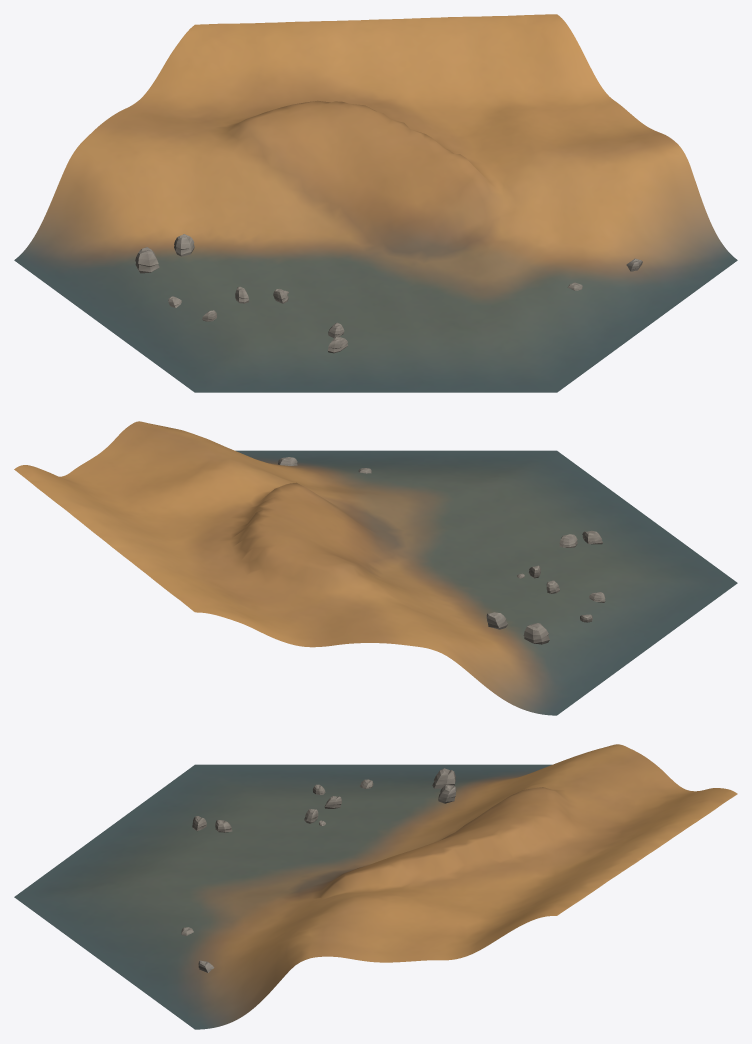
Rendered from costa_-05_+06.glb.
3 renders of one model, top to bottom at view 1: azimuth 30°, elevation 25°; view 2: azimuth 150°, elevation 25°; view 3: azimuth 270°, elevation 25°, orthographic.
Parts seen in each view (by area): view 1: terrain, Formações costeiras; view 2: terrain, Formações costeiras; view 3: terrain, Formações costeiras.
Boxes of the visible parts, x1,y1,x2,y2 form: terrain: (14,14,737,392); Formações costeiras: (135,234,642,353); terrain: (14,421,737,715); Formações costeiras: (278,457,605,644); terrain: (14,744,737,1029); Formações costeiras: (181,768,456,972).
Bounding box in the file's own units: 4330 × 866 × 5000.
1 material, 1 textured.
